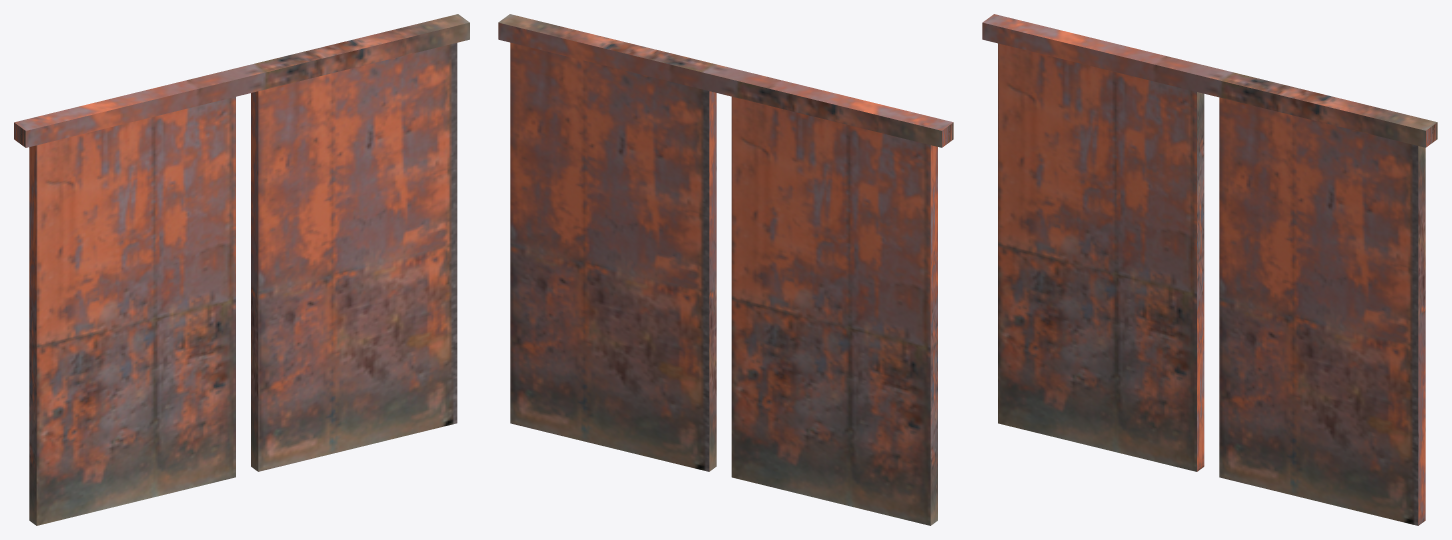
The model's file is MESH_PorteSortie.FBX.
3 views of the same model, side by side, from view 1: azimuth 30°, elevation 25°; view 2: azimuth 150°, elevation 25°; view 3: azimuth 330°, elevation 25° (orthographic).
Parts seen in each view (by area): view 1: Box005, Box004, Box006; view 2: Box004, Box005, Box006; view 3: Box005, Box004, Box006.
Boxes of the visible parts, x1,y1,x2,y2 form: Box005: (251, 43, 457, 471); Box004: (29, 97, 235, 525); Box006: (14, 14, 469, 147); Box004: (731, 96, 937, 525); Box005: (510, 42, 716, 471); Box006: (498, 14, 953, 147); Box005: (1219, 97, 1425, 525); Box004: (998, 43, 1204, 471); Box006: (982, 14, 1437, 147).
Size of the model in its own units: 331 by 285 by 15.19.
1 material, 1 textured.
